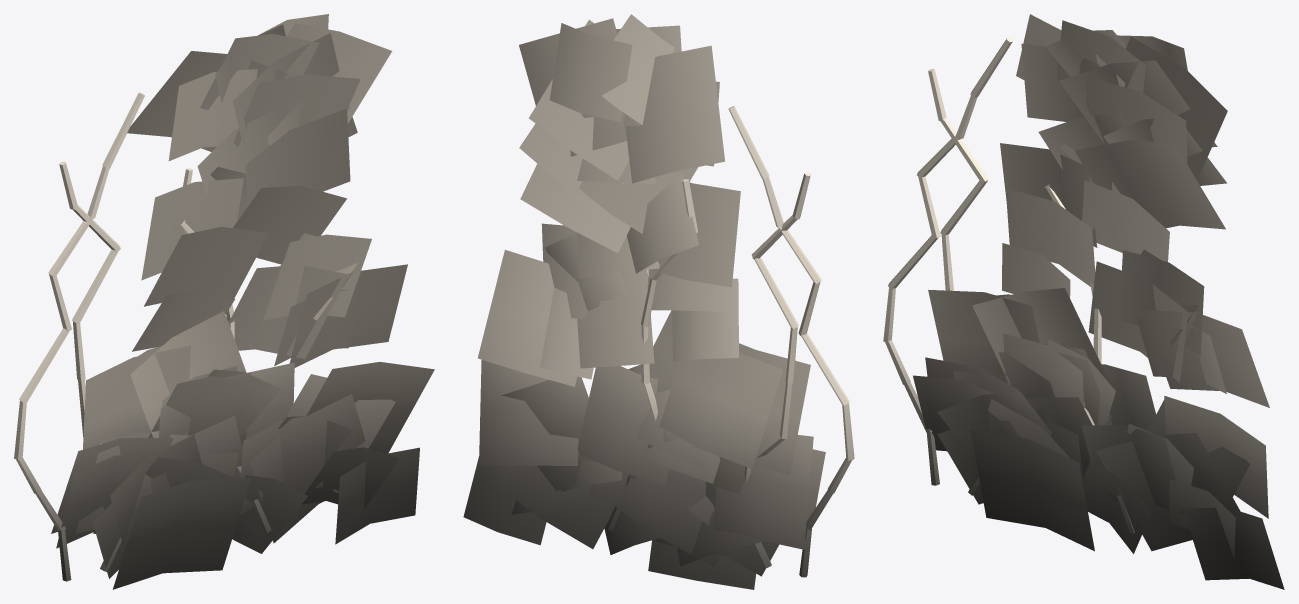
The model's file is SM_VK_Deco_Ivy_A.fbx.
3 renders of one model, left to right at view 1: azimuth 30°, elevation 25°; view 2: azimuth 150°, elevation 25°; view 3: azimuth 330°, elevation 25°, orthographic. The views are drawn at different scales.
Parts seen in each view (by area): view 1: SM_VK_Deco_Ivy_A.001; view 2: SM_VK_Deco_Ivy_A.001; view 3: SM_VK_Deco_Ivy_A.001.
Boxes of the visible parts, x1,y1,x2,y2 form: SM_VK_Deco_Ivy_A.001: (14, 14, 434, 589); SM_VK_Deco_Ivy_A.001: (463, 14, 854, 589); SM_VK_Deco_Ivy_A.001: (883, 14, 1284, 589).
Bounding box in the file's own units: 2.26 × 2.96 × 0.3704.
